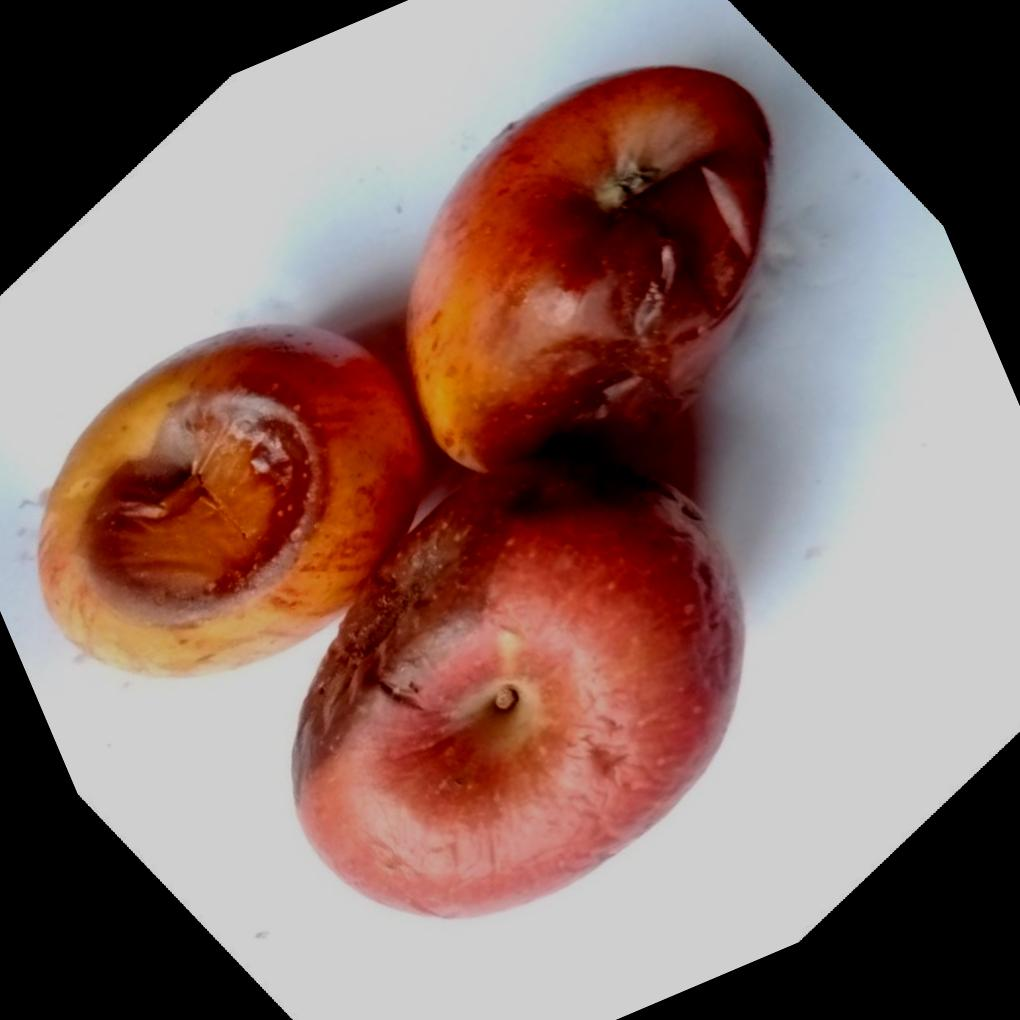FreshOrange: (32, 66, 770, 915)
